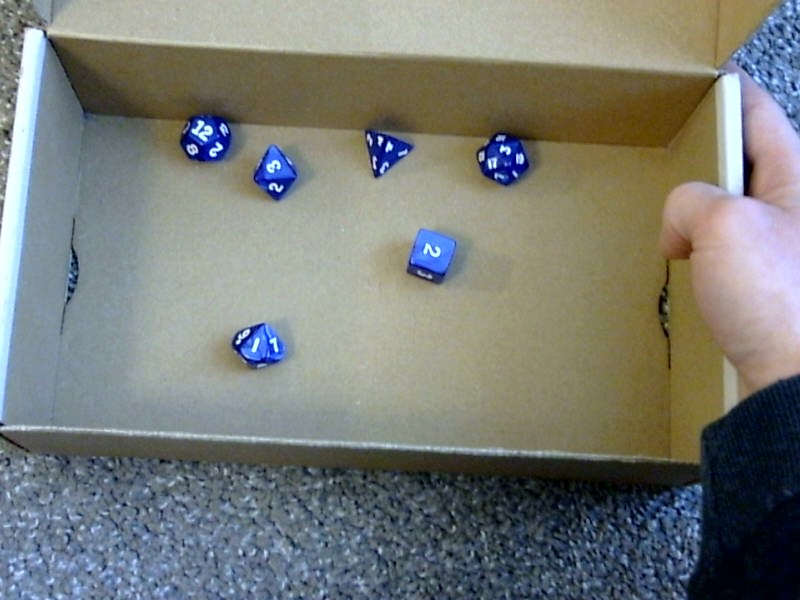d10 1: (229, 313, 287, 370)
d12 12: (173, 105, 233, 164)
d20 3: (467, 123, 532, 189)
d4 4: (354, 123, 418, 182)
d6 2: (405, 222, 456, 287)
d8 3: (249, 138, 301, 201)
